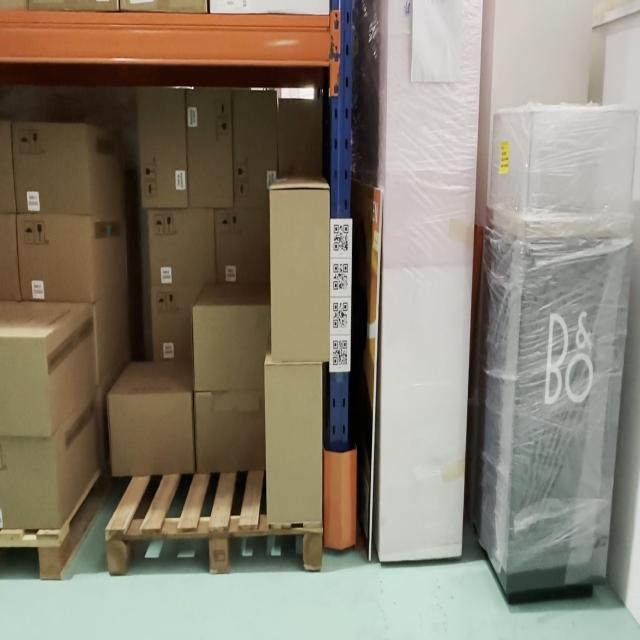box: (274, 188, 328, 361), (265, 366, 321, 520), (114, 393, 192, 476), (17, 127, 88, 209), (194, 309, 264, 387), (23, 217, 89, 299), (195, 392, 265, 469), (187, 91, 232, 203), (0, 439, 54, 529), (152, 208, 214, 284), (144, 92, 183, 205), (0, 339, 44, 433), (236, 93, 273, 204), (216, 208, 270, 282), (280, 96, 322, 174), (152, 287, 193, 358)
